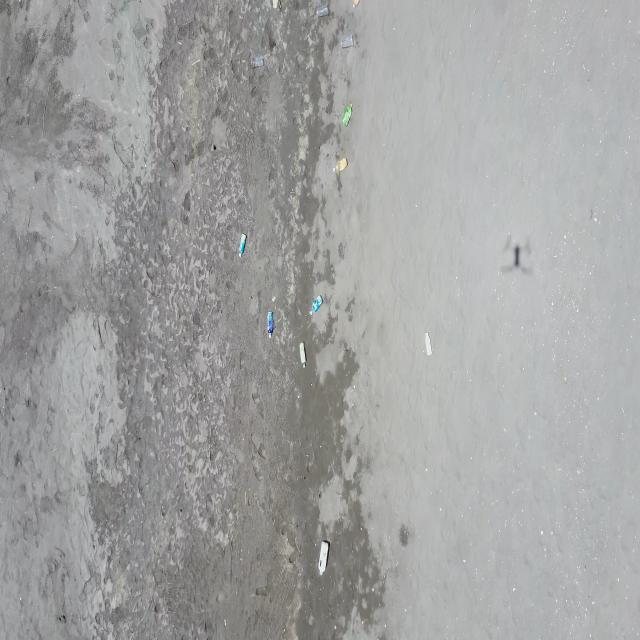plastic-bottle: (318, 538, 330, 576), (333, 156, 349, 176), (309, 296, 322, 316), (343, 104, 354, 126), (423, 332, 432, 358), (299, 341, 307, 369), (237, 234, 246, 258), (266, 310, 274, 337), (350, 0, 360, 9)
takeaway-cup: (341, 33, 356, 50), (317, 4, 330, 18), (251, 56, 265, 69)
